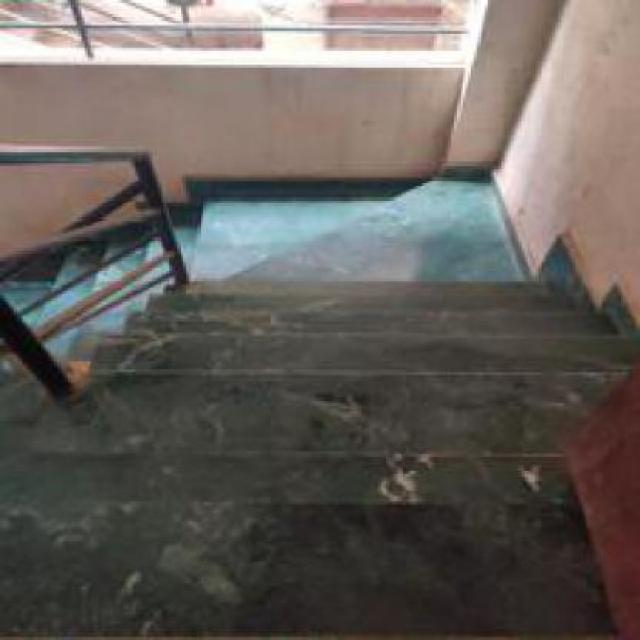stair: (85, 348, 555, 585)
